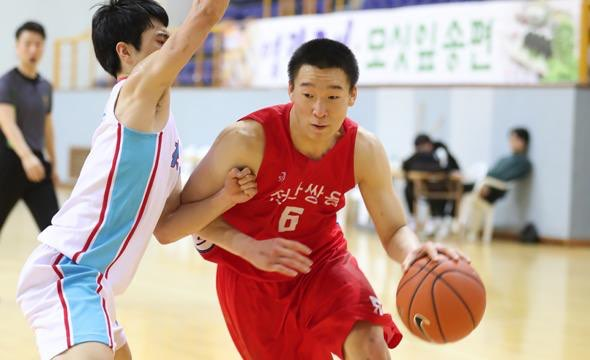ball: (388, 248, 485, 347)
breakthrough: (179, 36, 485, 360)
defense: (32, 2, 227, 359)
